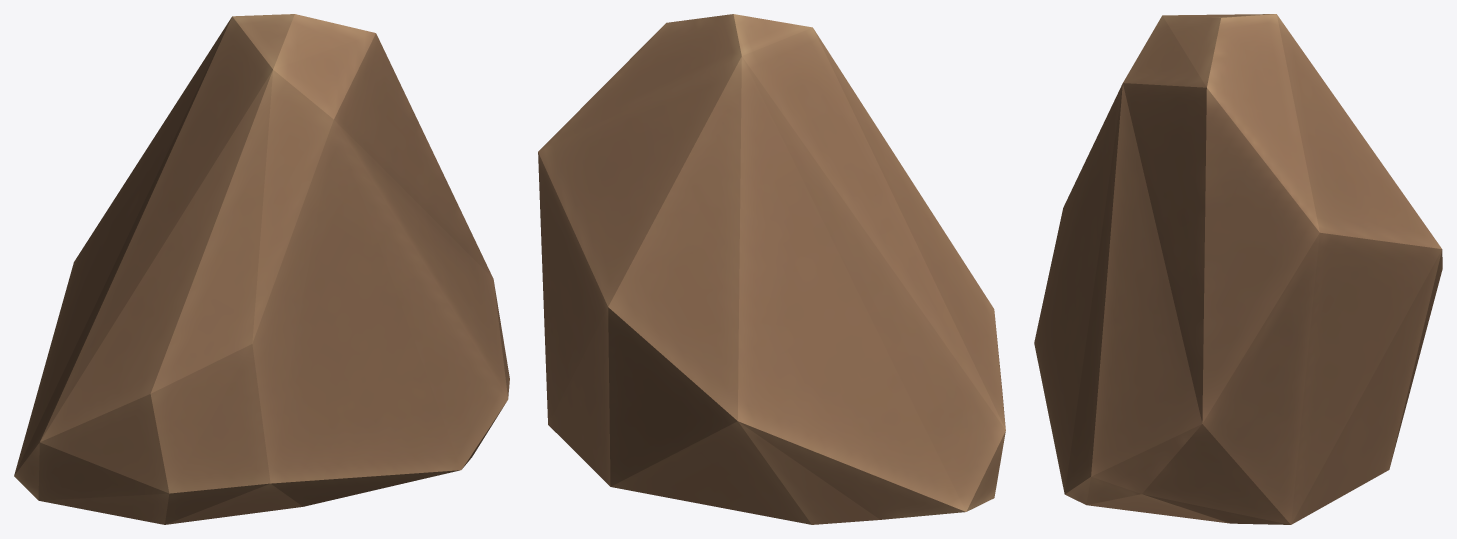
File: Rock_29.fbx
3 renders of one model, left to right at view 1: azimuth 30°, elevation 25°; view 2: azimuth 150°, elevation 25°; view 3: azimuth 270°, elevation 25°, orthographic. The views are drawn at different scales.
Parts seen in each view (by area): view 1: Rock_29; view 2: Rock_29; view 3: Rock_29.
Part boxes in pixels (left/top/right/bottom): Rock_29: left=14, top=14, right=509, bottom=524; Rock_29: left=538, top=14, right=1005, bottom=524; Rock_29: left=1034, top=14, right=1442, bottom=524.
Size of the model in its own units: 32.86 by 25.09 by 29.25.
